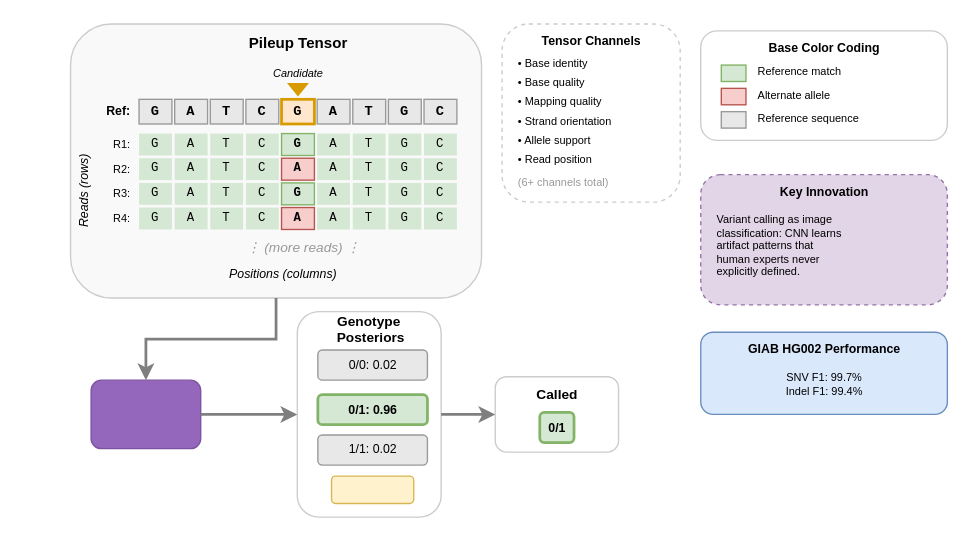
The diagram is 971 pixels wide and 541 high, and some of its shapes have lost their labels. Here are the shapes that lost their labels. From the top down, the centre of each, then its label:
the point at 145,414: CNN
the point at 372,489: GQ = 42
